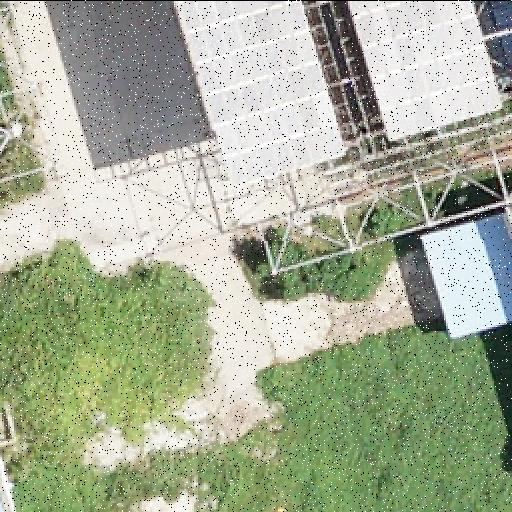solar-panel: (176, 0, 344, 188), (345, 0, 503, 140)
